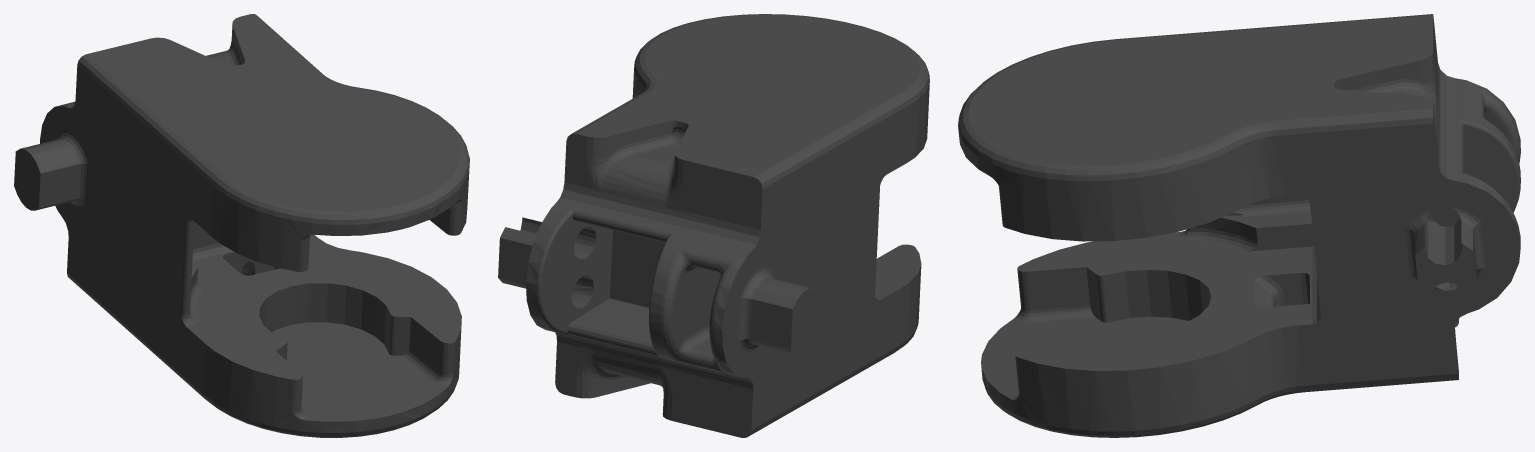
Rendered from lh_index_metacarpals_vis.obj.
3 views of the same model, side by side, from view 1: azimuth 30°, elevation 25°; view 2: azimuth 150°, elevation 25°; view 3: azimuth 270°, elevation 25° (orthographic). The views are drawn at different scales.
Parts seen in each view (by area): view 1: lh_index_metacarpals; view 2: lh_index_metacarpals; view 3: lh_index_metacarpals.
Boxes of the visible parts, <box> form: lh_index_metacarpals: <box>14,14,469,437</box>; lh_index_metacarpals: <box>498,14,929,437</box>; lh_index_metacarpals: <box>958,14,1520,437</box>.
Size of the model in its own units: 0.0202 by 0.0181 by 0.03.
1 material, 1 textured.
